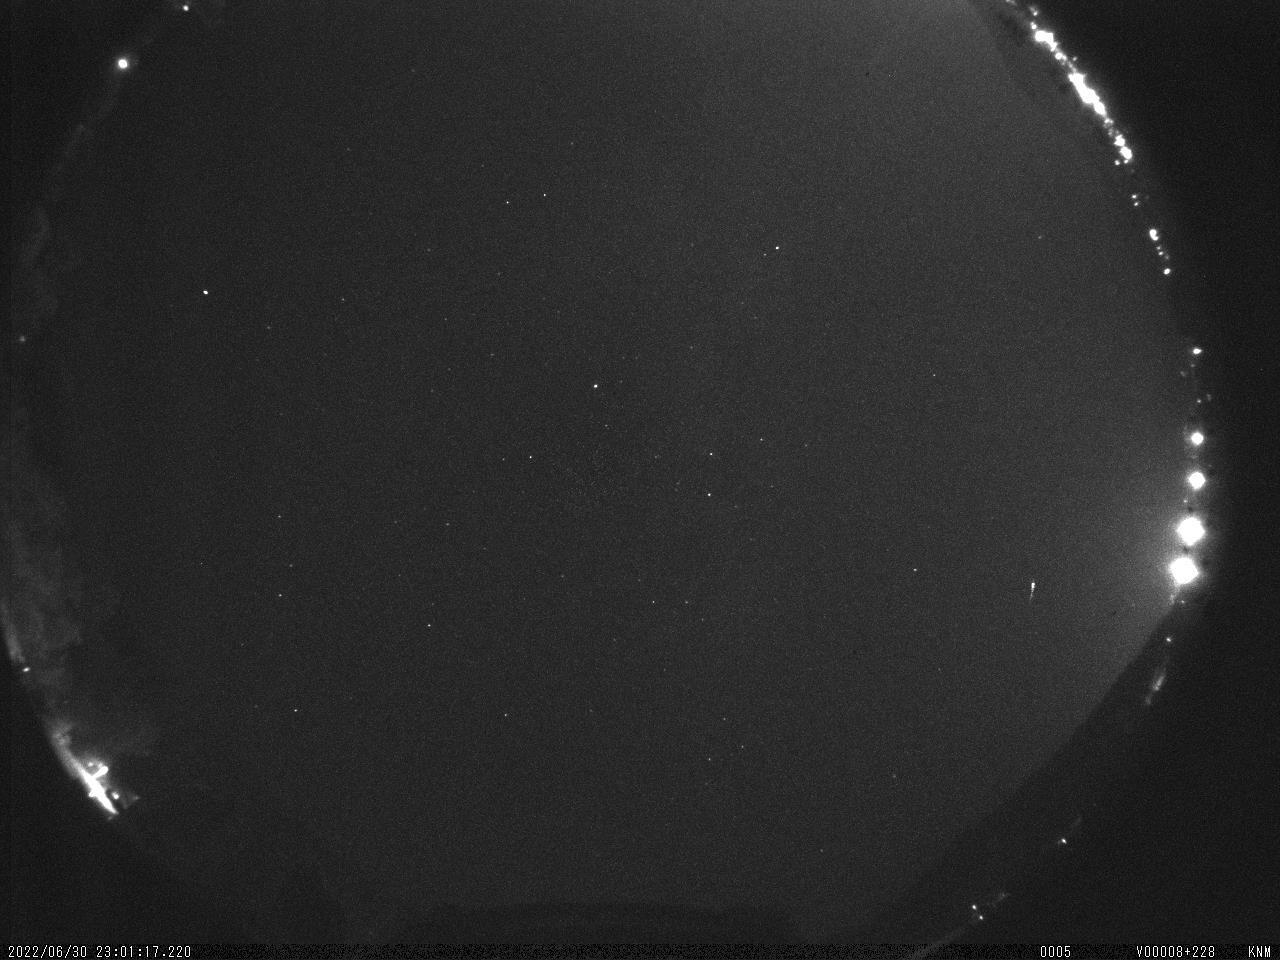Meteor: (1024, 574, 1040, 610)
